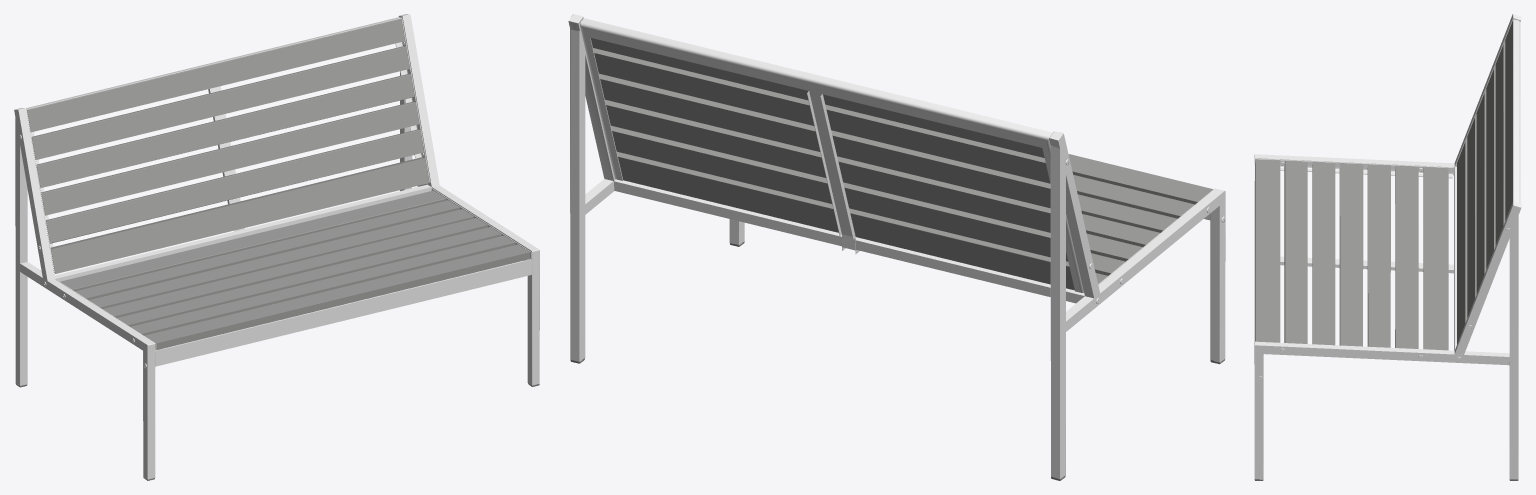
Rendered from jolpen_sofa_2_osobowa_na_zewnatrz_60515483.glb.
3 renders of one model, left to right at view 1: azimuth 30°, elevation 25°; view 2: azimuth 150°, elevation 25°; view 3: azimuth 270°, elevation 25°, orthographic. The views are drawn at different scales.
Parts seen in each view (by area): view 1: jolpen_sofa_2_osobowa_na_zewnatrz_60515483; view 2: jolpen_sofa_2_osobowa_na_zewnatrz_60515483; view 3: jolpen_sofa_2_osobowa_na_zewnatrz_60515483.
Boxes of the visible parts, x1,y1,x2,y2 form: jolpen_sofa_2_osobowa_na_zewnatrz_60515483: [14, 14, 539, 480]; jolpen_sofa_2_osobowa_na_zewnatrz_60515483: [568, 14, 1225, 480]; jolpen_sofa_2_osobowa_na_zewnatrz_60515483: [1254, 14, 1521, 480].
Size of the model in its own units: 1 by 0.673 by 0.59.
1 material, 1 textured.
